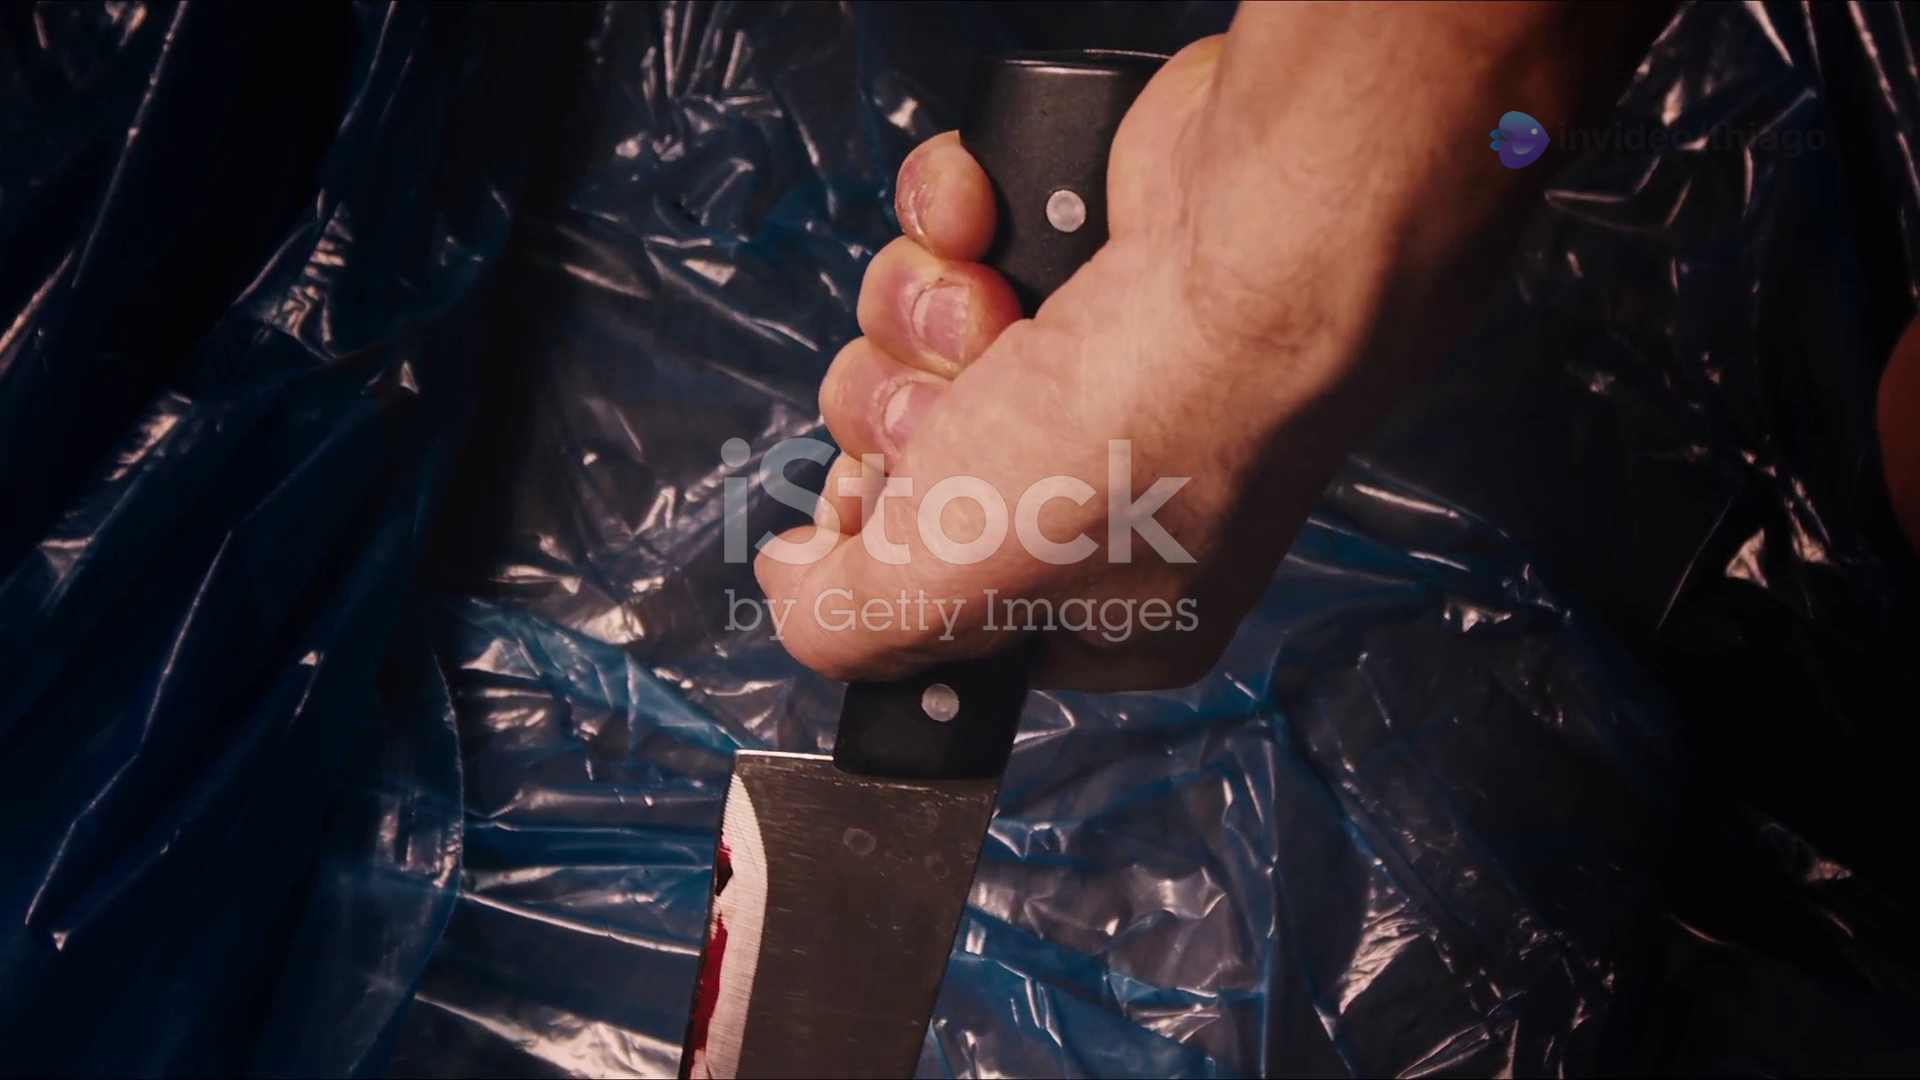cortante: (674, 748, 1000, 1080)
